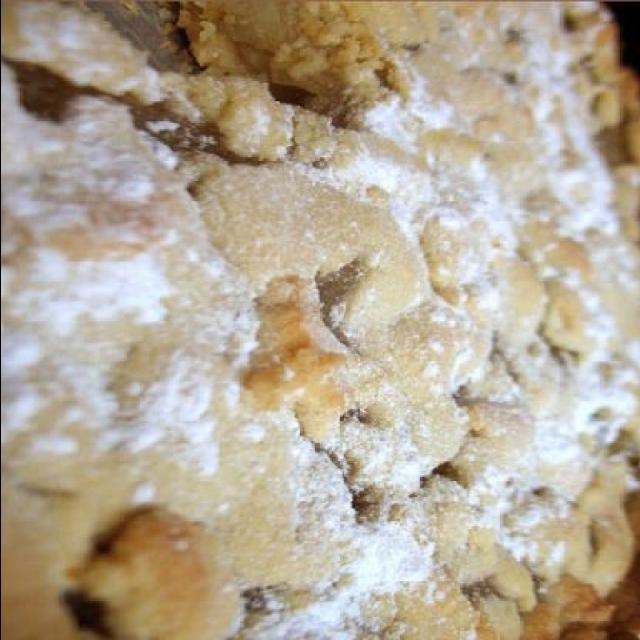Apple: (1, 6, 614, 638)
